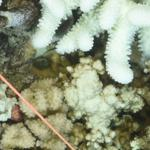alive: (1, 1, 146, 147)
